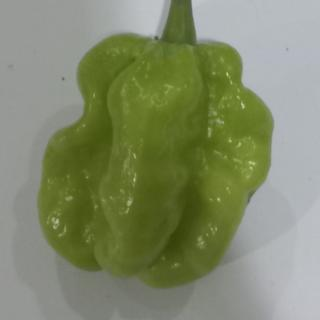Grade-A: (31, 29, 285, 289)
